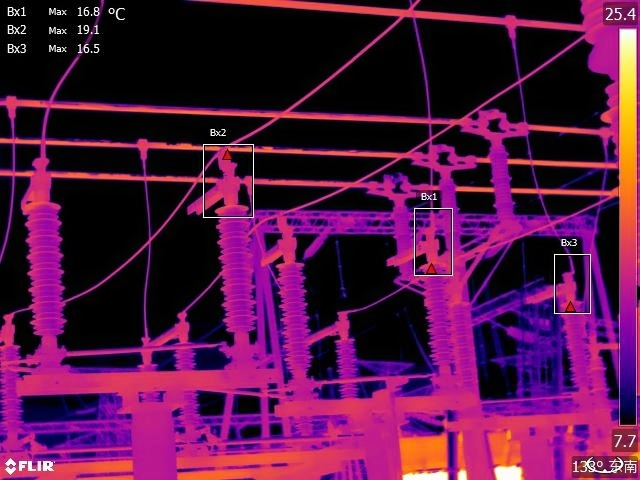clamp: (495, 1, 524, 47), (1, 87, 25, 126), (130, 131, 154, 163)
insulator: (303, 230, 331, 259)
post insulator: (24, 199, 67, 339), (216, 203, 258, 333), (275, 256, 313, 372), (424, 261, 455, 367), (564, 300, 593, 387), (450, 300, 476, 395), (1, 344, 26, 442), (177, 340, 200, 429), (336, 332, 357, 400), (592, 355, 611, 421)
switch: (521, 266, 585, 312), (187, 173, 248, 218), (139, 308, 192, 358), (379, 231, 439, 275), (15, 166, 53, 216), (259, 225, 297, 265), (313, 307, 351, 344)
